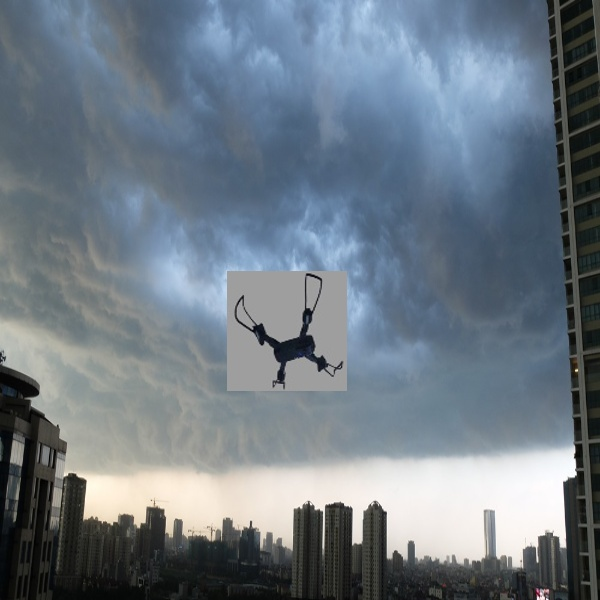drone: (231, 272, 347, 391)
